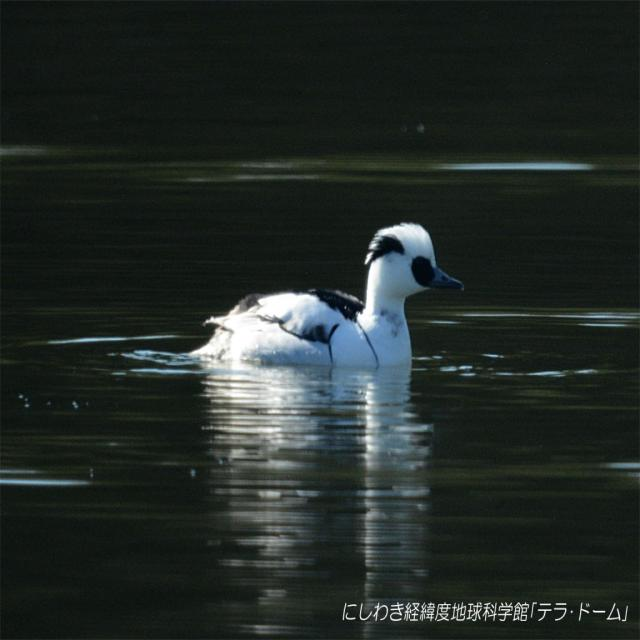bird: (190, 230, 468, 371)
